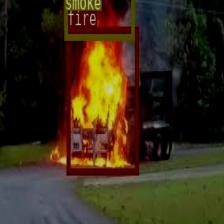fire: (66, 25, 138, 173)
smoke: (64, 0, 134, 38)
